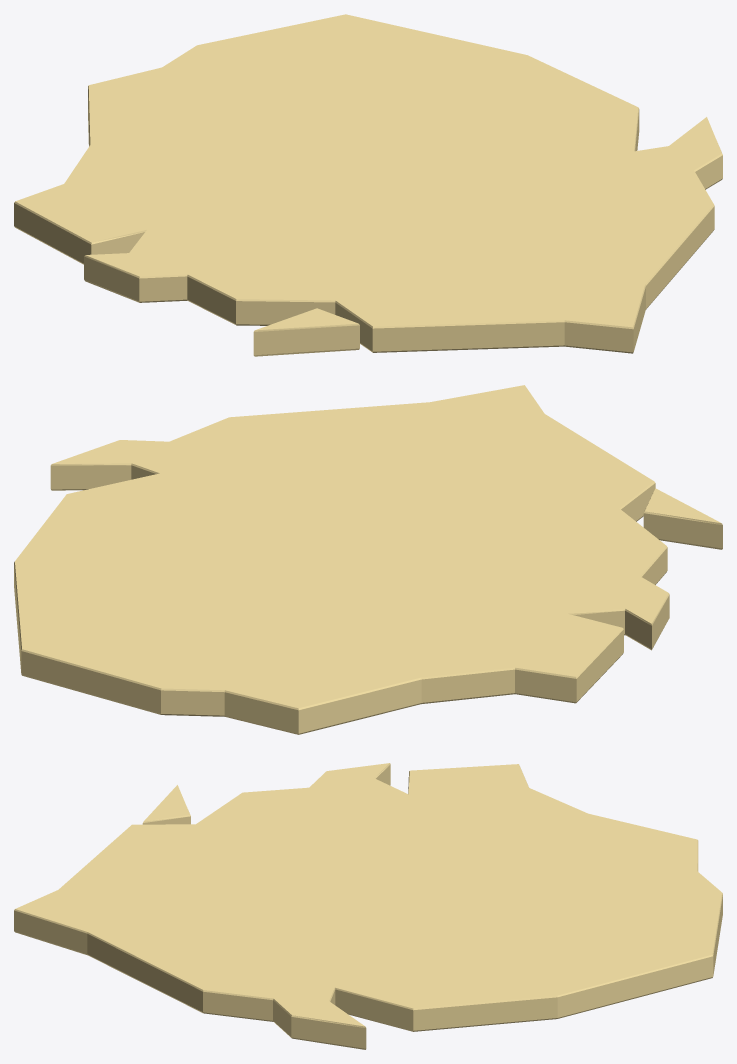
The model's file is SLE.glb.
3 views of the same model, one above another, from view 1: azimuth 30°, elevation 25°; view 2: azimuth 150°, elevation 25°; view 3: azimuth 270°, elevation 25° (orthographic). The views are drawn at different scales.
Size of the model in its own units: 1.65 by 0.068 by 1.87.
